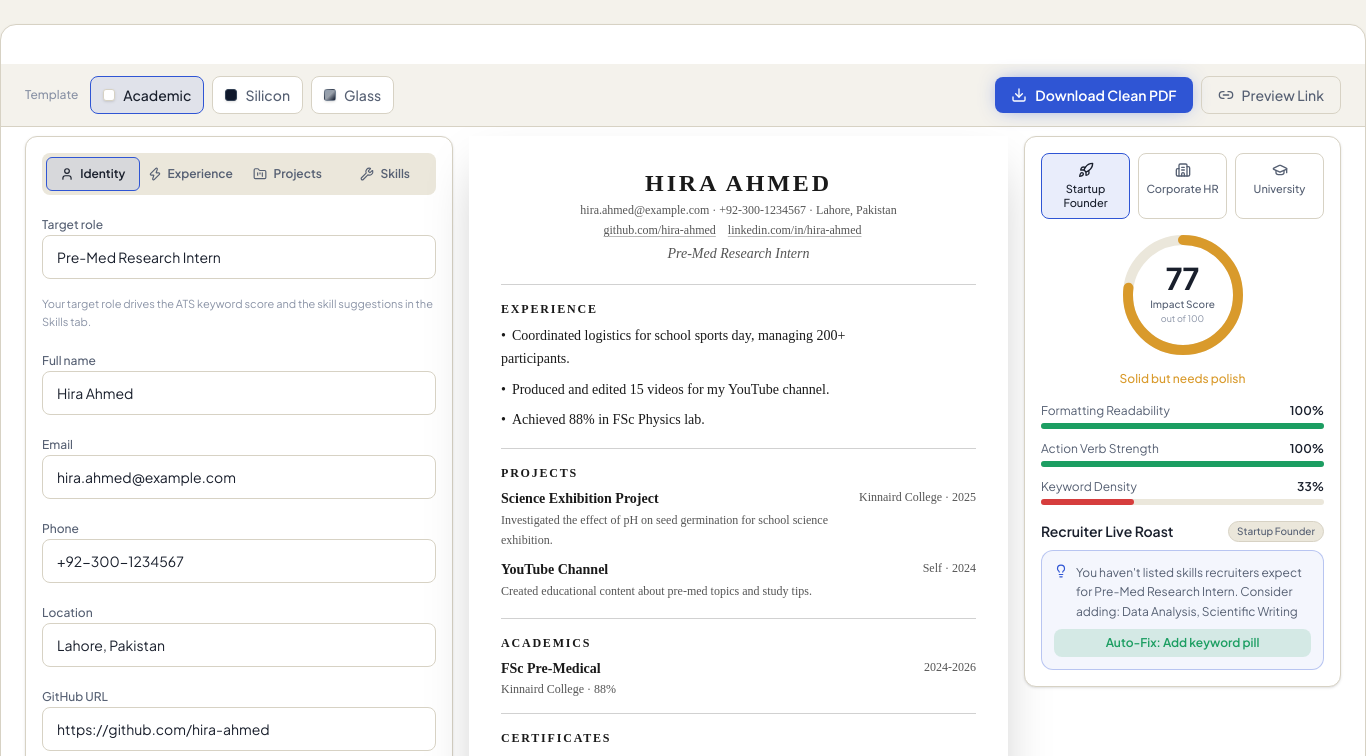
Test: toggles a tech skill pill off and on via suggestions
The width and height of the screenshot is (1366, 756).
Click the tab "Skills" at (385, 174), box [338,157,432,191]
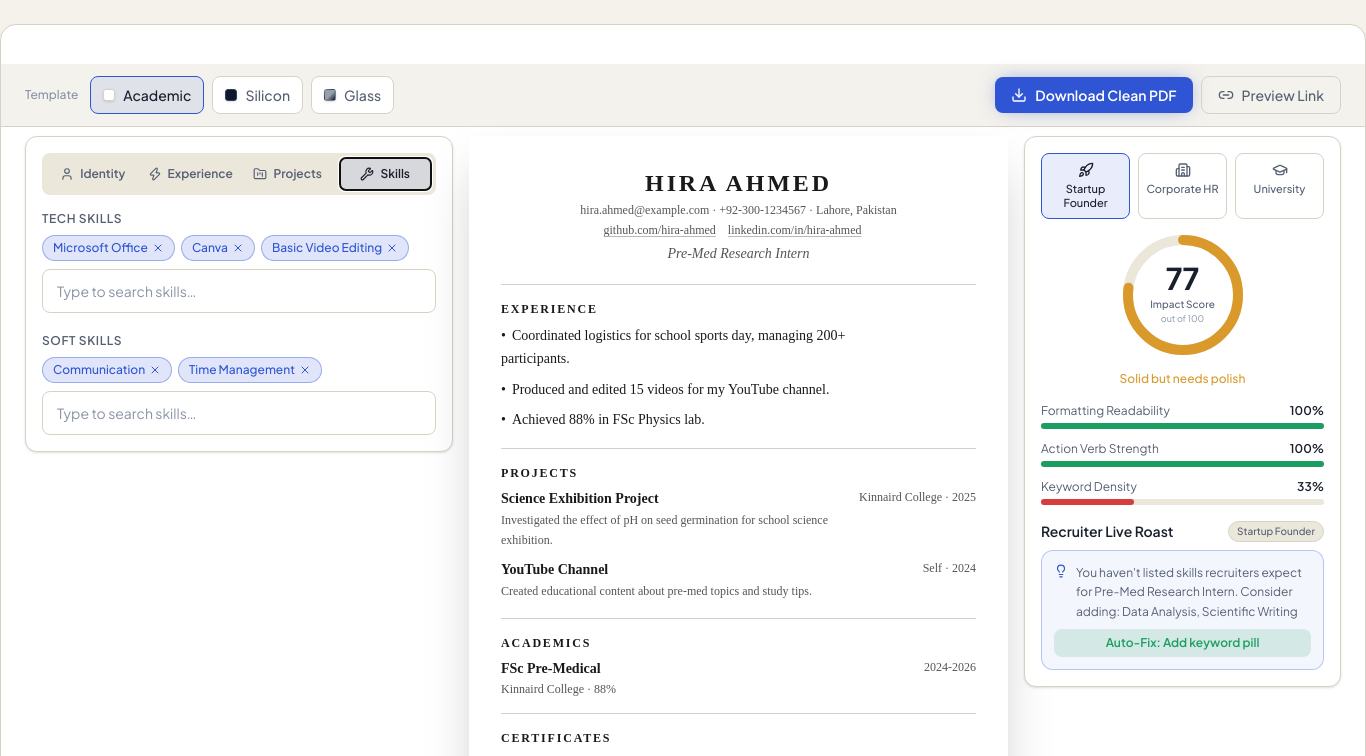
Expected: the button with aria-label "Remove Microsoft Office" is shown
Click the button with aria-label "Remove Microsoft Office" at (108, 248), box [42,235,175,261]
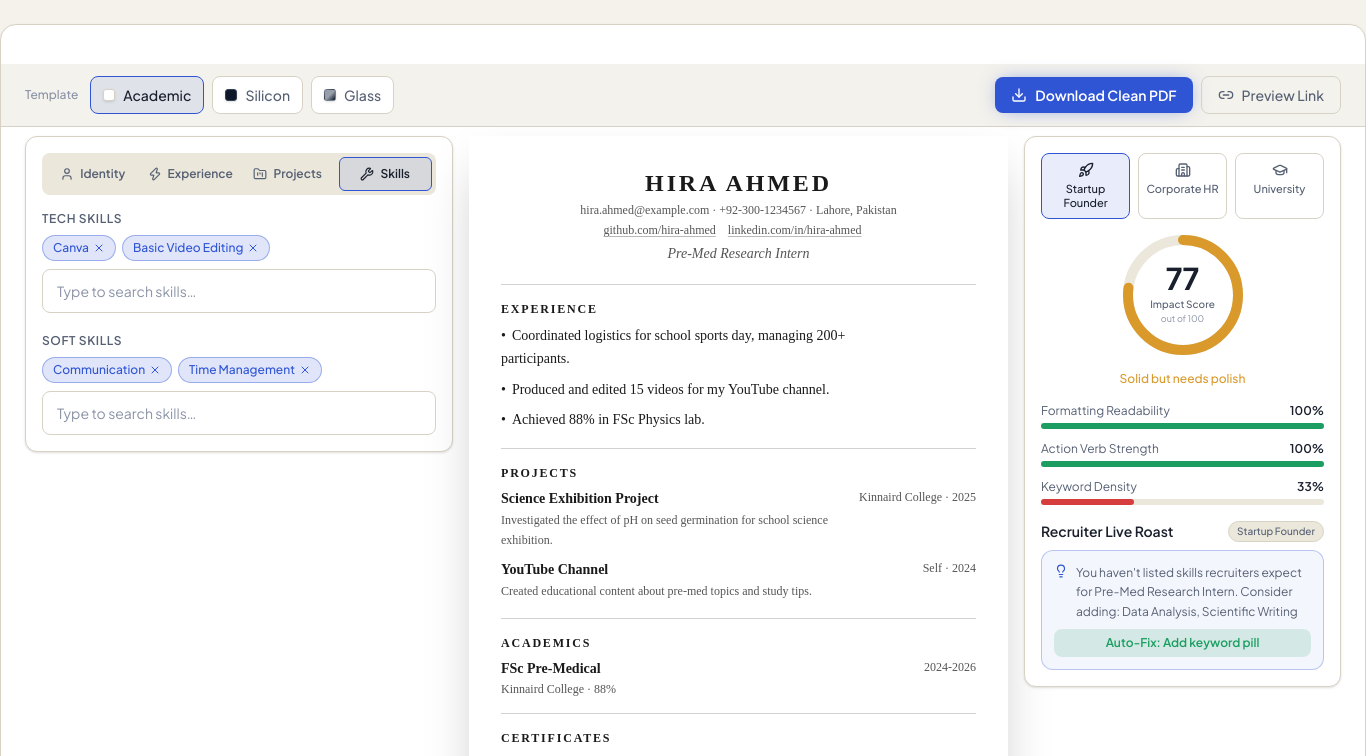
Note: Re-add a curated skill through the suggestion dropdown
Type "Ex" into the field named "search tech skills" at (239, 291), box [42,269,436,313]
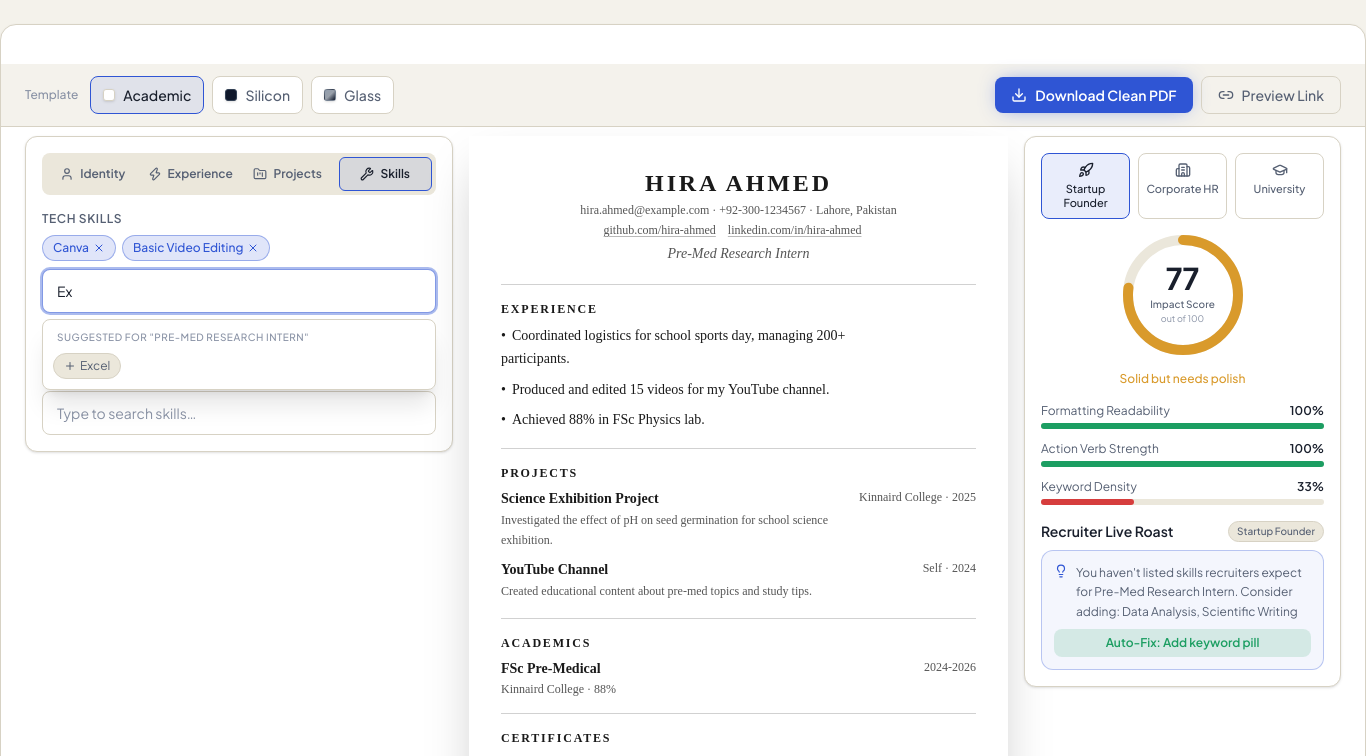
Click the button "Excel" at (87, 366), box [53,353,121,379]
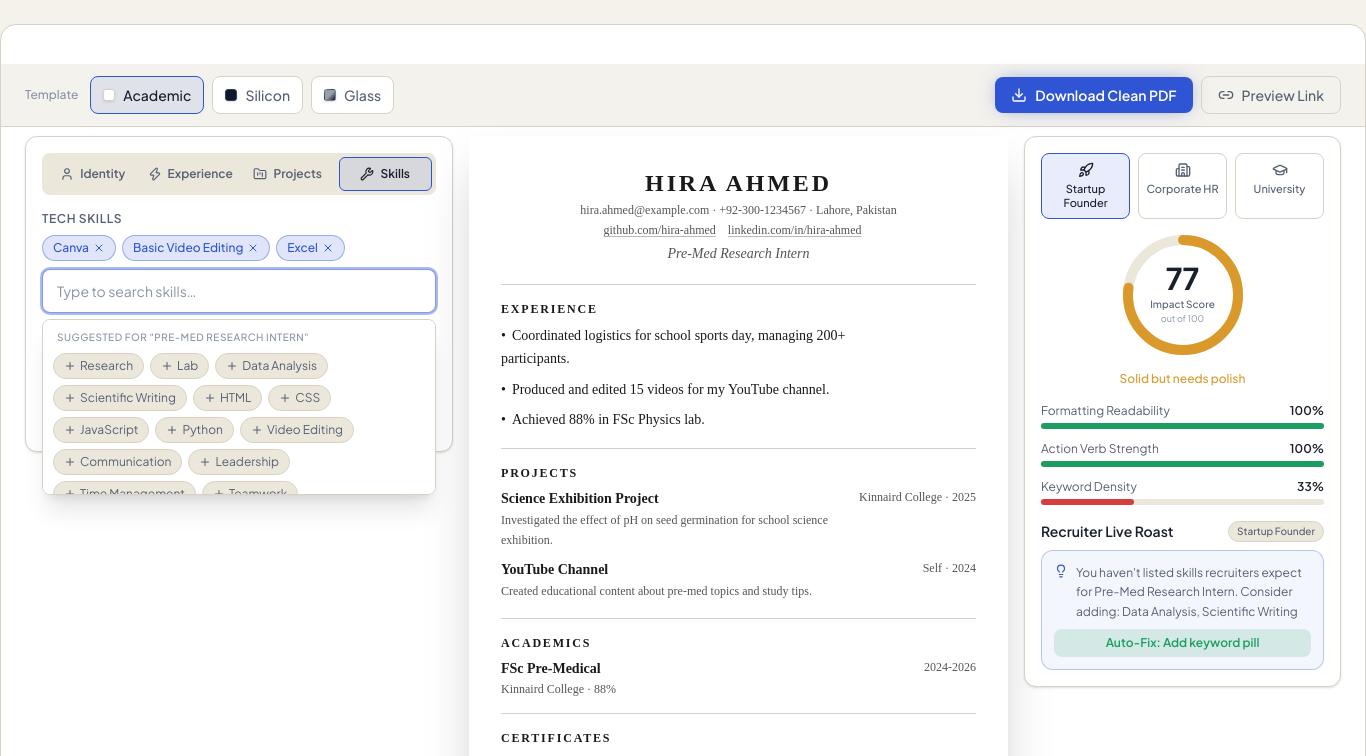
Expected: the button with aria-label "Remove Excel" is shown, [276,235,345,261]
